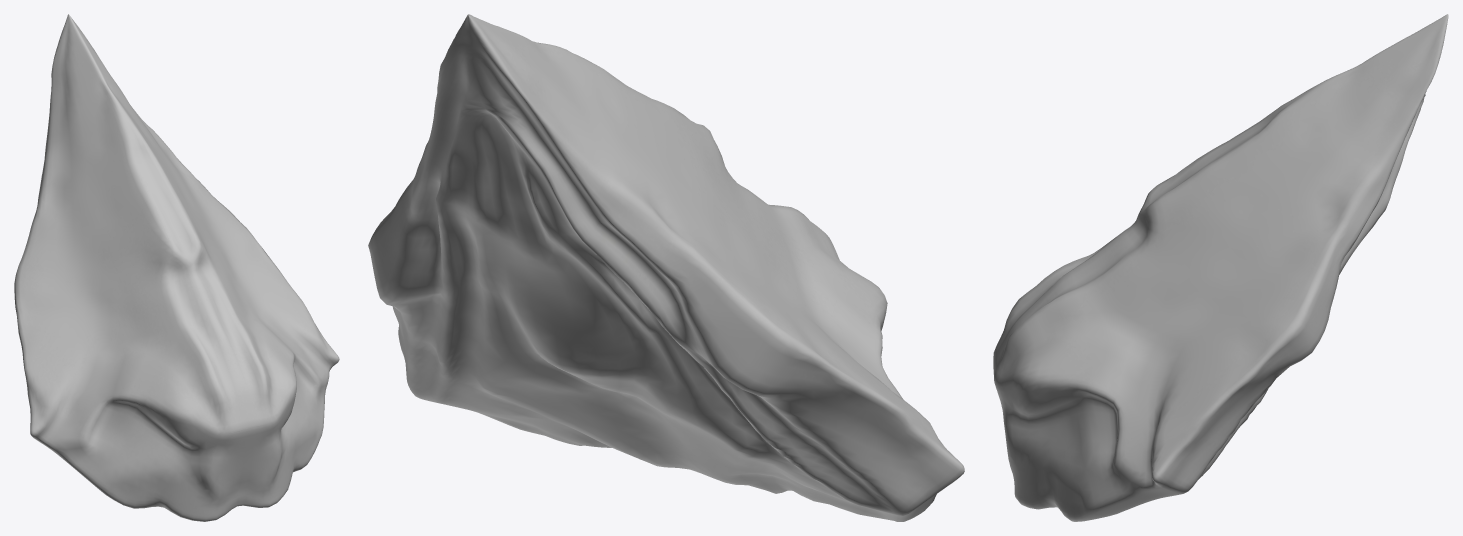
Rendered from rock fragment 3d model.glb.
3 views of the same model, side by side, from view 1: azimuth 30°, elevation 25°; view 2: azimuth 150°, elevation 25°; view 3: azimuth 270°, elevation 25° (orthographic). The views are drawn at different scales.
Parts seen in each view (by area): view 1: tripo_node_503affa8-266e-4a77-a376-380acdaac6cc; view 2: tripo_node_503affa8-266e-4a77-a376-380acdaac6cc; view 3: tripo_node_503affa8-266e-4a77-a376-380acdaac6cc.
Part boxes in pixels (x1,y1,x2,y2): tripo_node_503affa8-266e-4a77-a376-380acdaac6cc: (14,14,339,521); tripo_node_503affa8-266e-4a77-a376-380acdaac6cc: (368,14,964,521); tripo_node_503affa8-266e-4a77-a376-380acdaac6cc: (993,14,1448,521).
Size of the model in its own units: 0.8564 by 0.9948 by 0.8755.
1 material, 1 textured.
